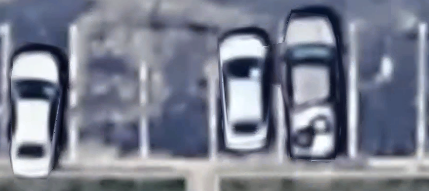Occupied: (281, 26, 353, 159), (5, 25, 74, 160), (213, 26, 281, 160)
Vacant: (73, 25, 144, 159), (352, 25, 423, 159), (143, 25, 213, 160)
